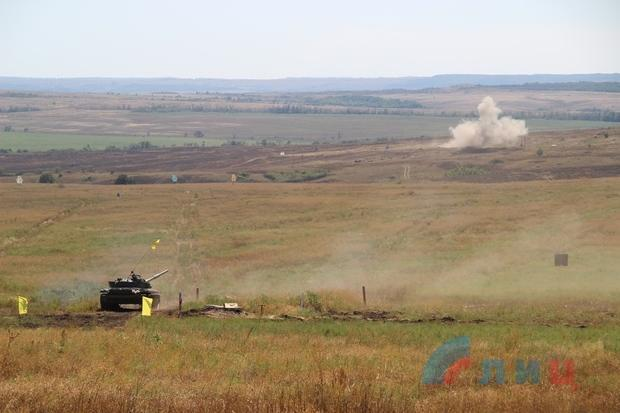tank: (98, 267, 170, 311)
